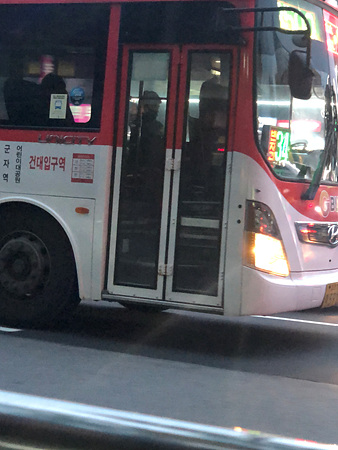entrance: (109, 41, 237, 309)
